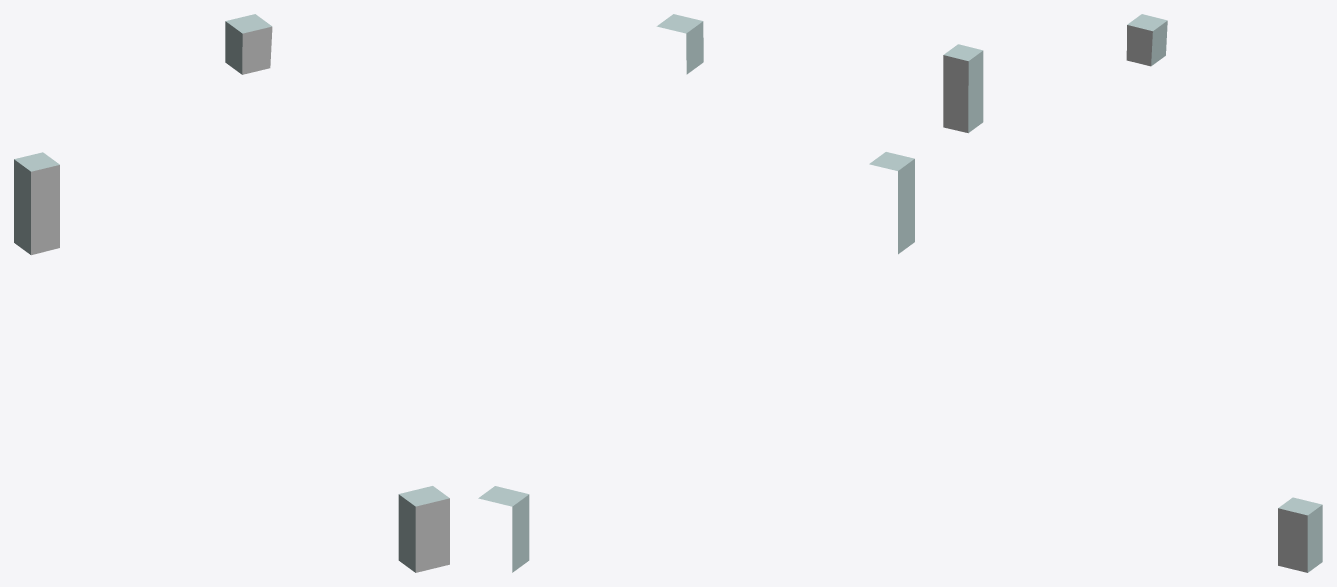
3 renders of one model, left to right at view 1: azimuth 30°, elevation 25°; view 2: azimuth 150°, elevation 25°; view 3: azimuth 330°, elevation 25°, orthographic. The views are drawn at different scales.
Parts seen in each view (by area): view 1: 0_2_1_1_3_0_0_0_0; view 2: 0_2_1_1_3_0_0_0_0; view 3: 0_2_1_1_3_0_0_0_0.
Boxes of the visible parts, x1=… form: 0_2_1_1_3_0_0_0_0: x1=14, y1=14, x2=449, y2=572; 0_2_1_1_3_0_0_0_0: x1=478, y1=14, x2=914, y2=572; 0_2_1_1_3_0_0_0_0: x1=943, y1=14, x2=1322, y2=572.
Bounding box in the file's own units: 42.49 × 56.33 × 3.14.
